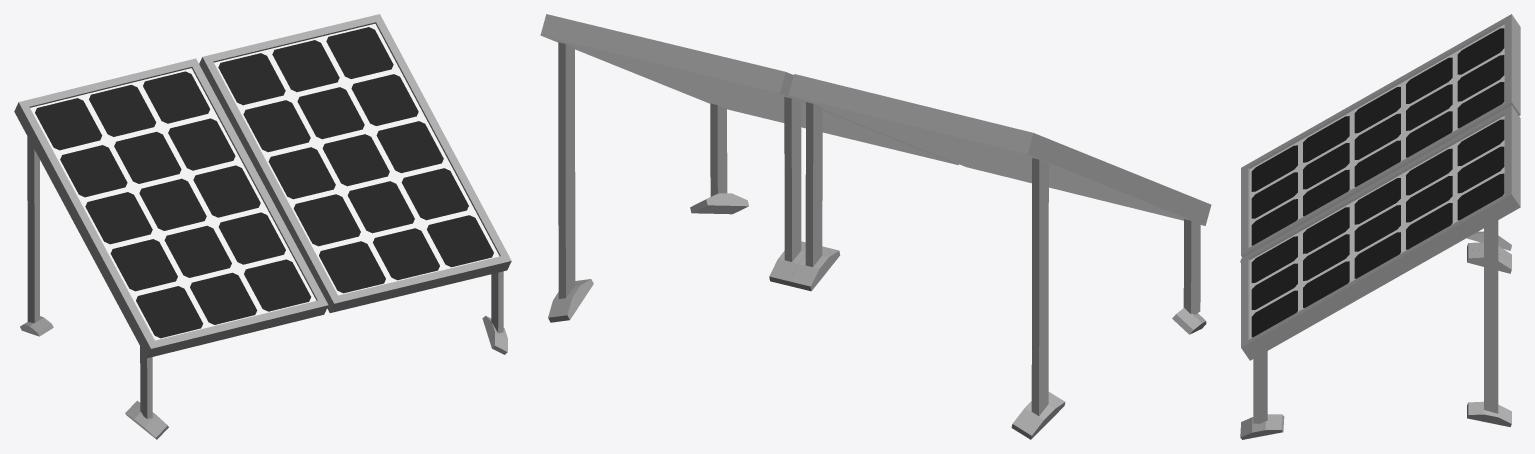
The model's file is debris_solar_panel.repacked.glb.
The picture shows the model from 3 angles, left to right: view 1: azimuth 30°, elevation 25°; view 2: azimuth 150°, elevation 25°; view 3: azimuth 270°, elevation 25°; orthographic projection. The views are drawn at different scales.
Parts seen in each view (by area): view 1: SolarPanel_Roof; view 2: SolarPanel_Roof; view 3: SolarPanel_Roof.
Part boxes in pixels (x1=…): SolarPanel_Roof: x1=14, y1=14, x2=511, y2=439; SolarPanel_Roof: x1=540, y1=14, x2=1211, y2=439; SolarPanel_Roof: x1=1240, y1=14, x2=1520, y2=439.
Size of the model in its own units: 2.73 by 1.7 by 1.73.
Materials: 1 (1 with a texture image).
